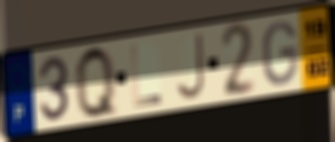2: (219, 18, 258, 104)
3: (36, 53, 70, 125)
G: (261, 19, 299, 88)
J: (173, 31, 207, 103)
L: (129, 43, 164, 110)
Q: (73, 43, 120, 122)
